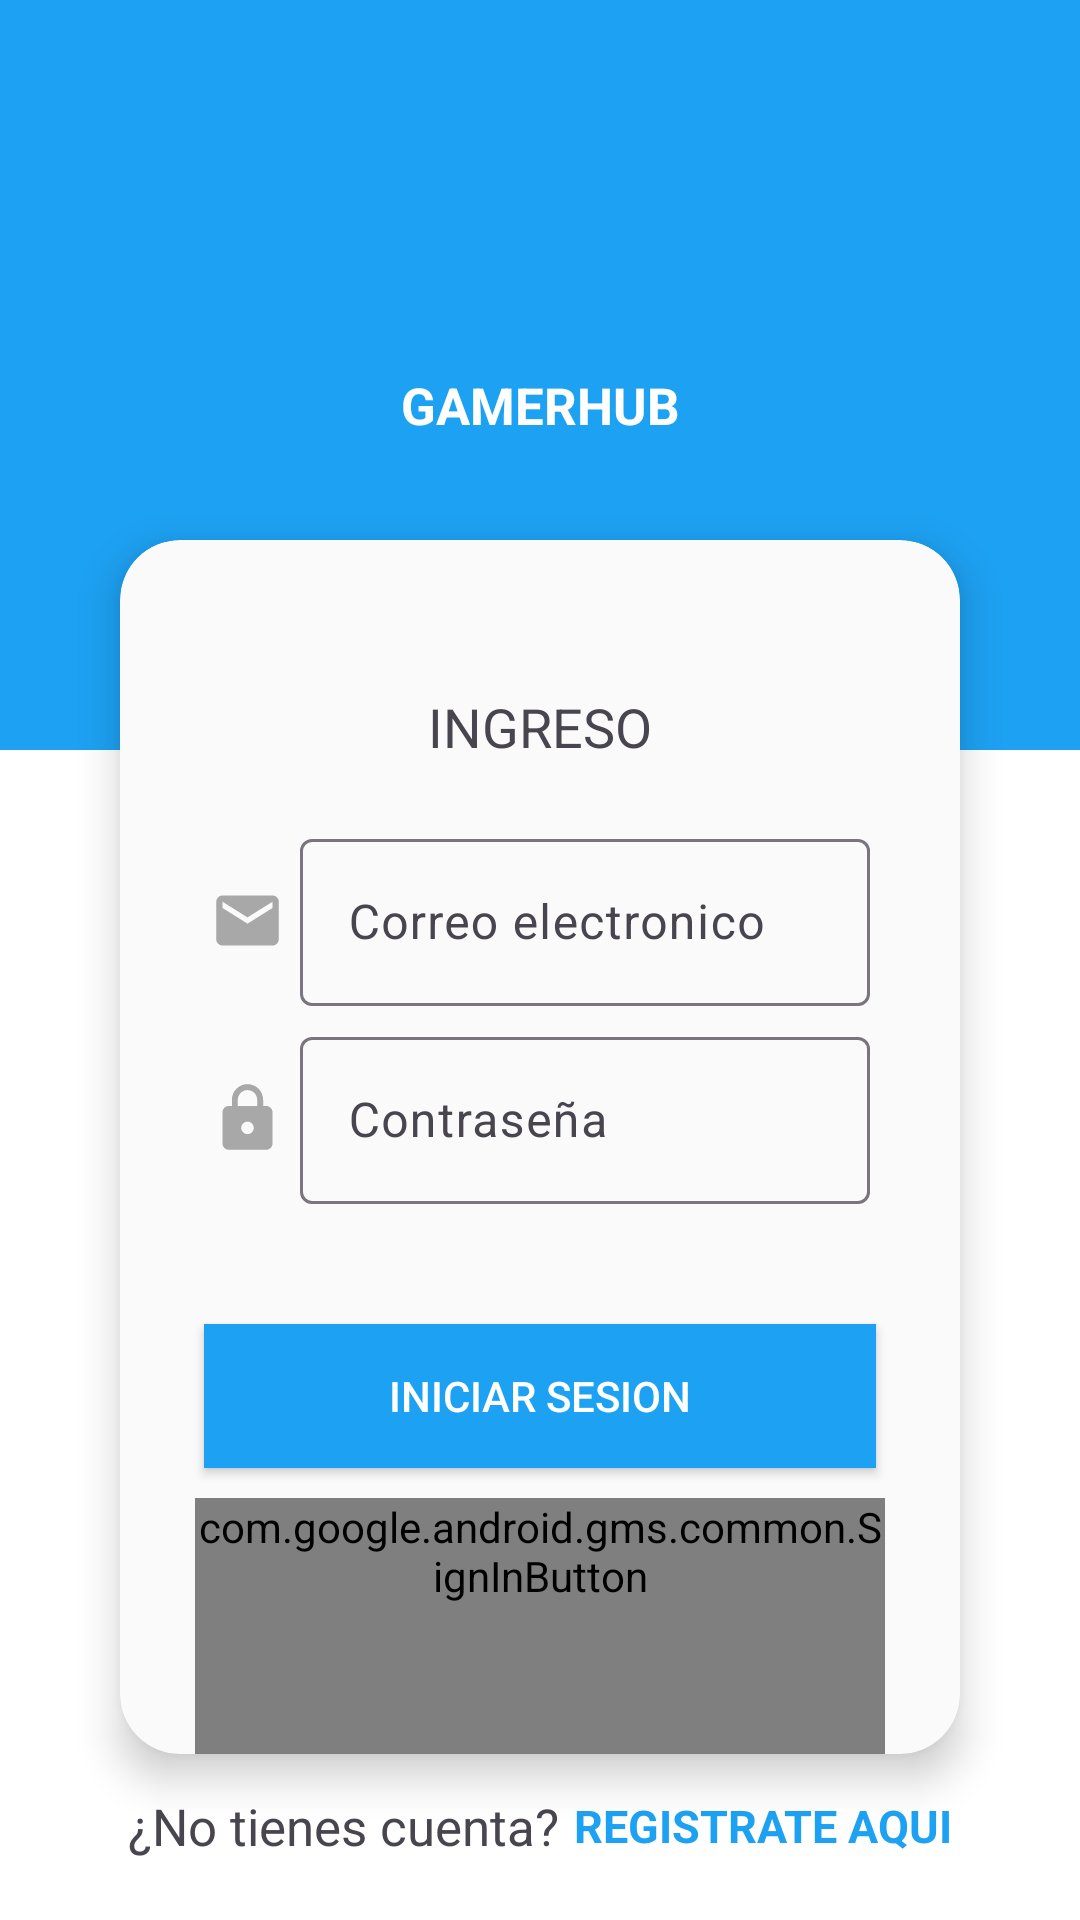

Point at icon controls on the screen. Image size 1080*1920, points as [x,y].
email: [247,920]
